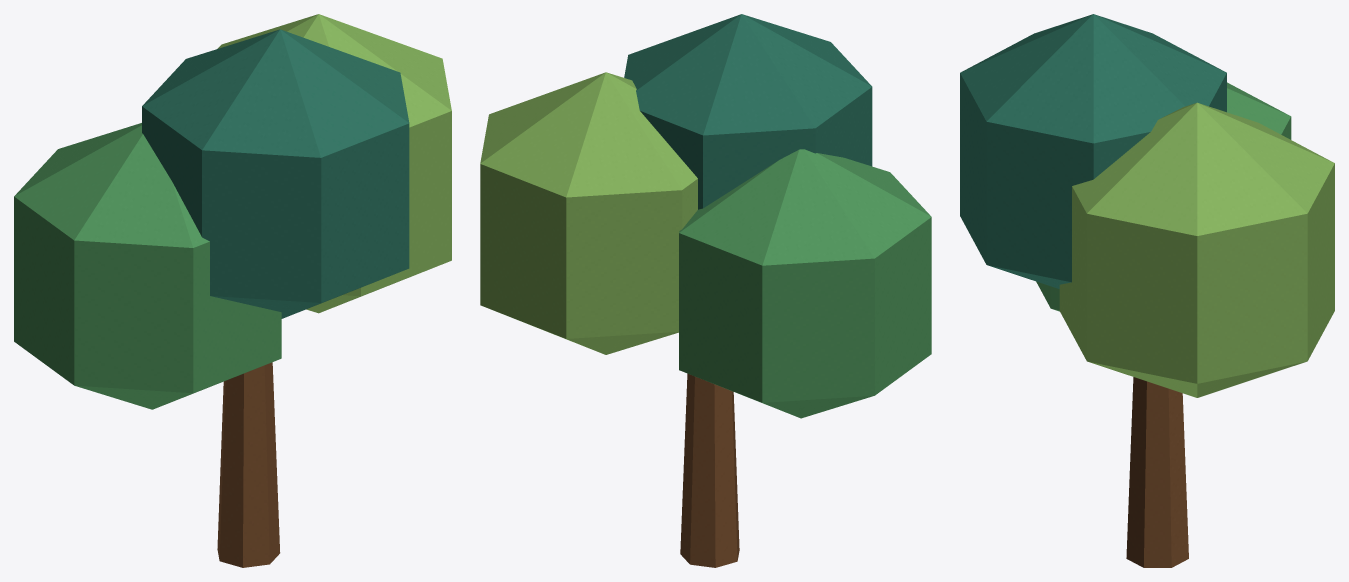
The model's file is innerscene-city-tree.glb.
3 views of the same model, side by side, from view 1: azimuth 30°, elevation 25°; view 2: azimuth 150°, elevation 25°; view 3: azimuth 270°, elevation 25° (orthographic). The views are drawn at different scales.
Parts seen in each view (by area): view 1: Polygon canopy 004, Polygon canopy 002, Polygon canopy 003, Faceted trunk 001; view 2: Polygon canopy 002, Polygon canopy 003, Polygon canopy 004, Faceted trunk 001; view 3: Polygon canopy 003, Polygon canopy 004, Faceted trunk 001, Polygon canopy 002.
Boxes of the visible parts, x1=… form: Polygon canopy 004: x1=142, y1=29, x2=409, y2=318; Polygon canopy 002: x1=14, y1=123, x2=281, y2=409; Polygon canopy 003: x1=217, y1=14, x2=451, y2=313; Faceted trunk 001: x1=217, y1=362, x2=280, y2=567; Polygon canopy 002: x1=679, y1=149, x2=931, y2=418; Polygon canopy 003: x1=480, y1=72, x2=697, y2=354; Polygon canopy 004: x1=624, y1=14, x2=872, y2=209; Faceted trunk 001: x1=680, y1=373, x2=739, y2=567; Polygon canopy 003: x1=1059, y1=102, x2=1334, y2=397; Polygon canopy 004: x1=960, y1=14, x2=1226, y2=288; Faceted trunk 001: x1=1126, y1=377, x2=1188, y2=567; Polygon canopy 002: x1=1036, y1=82, x2=1291, y2=311.
Size of the model in its own units: 2.9 by 3.63 by 2.28.
Materials: 4 (4 with a texture image).
